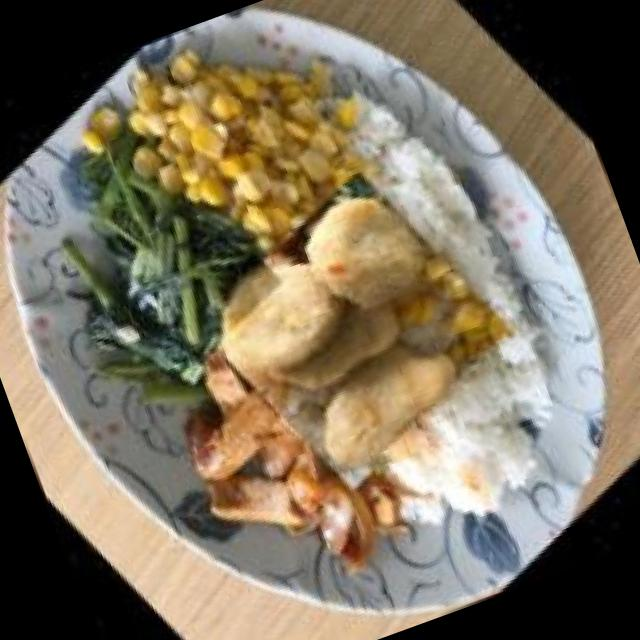chicken_nuggets: (160, 136, 552, 526)
rice: (357, 316, 614, 556)
water_spinach: (0, 94, 308, 427)
